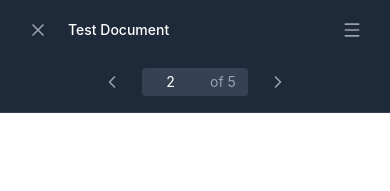
it: Accessibility Features › ViewerToolbar › should update mobile menu button accessibility when opened
// Open menu
Click the button with test id "mobile-menu-button". click: {"x": 352, "y": 30}
box: [330, 8, 374, 52]
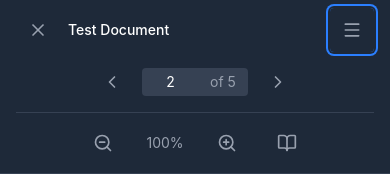
Result: the element named "Mobile view and zoom controls" is shown at [16, 112, 374, 165]
